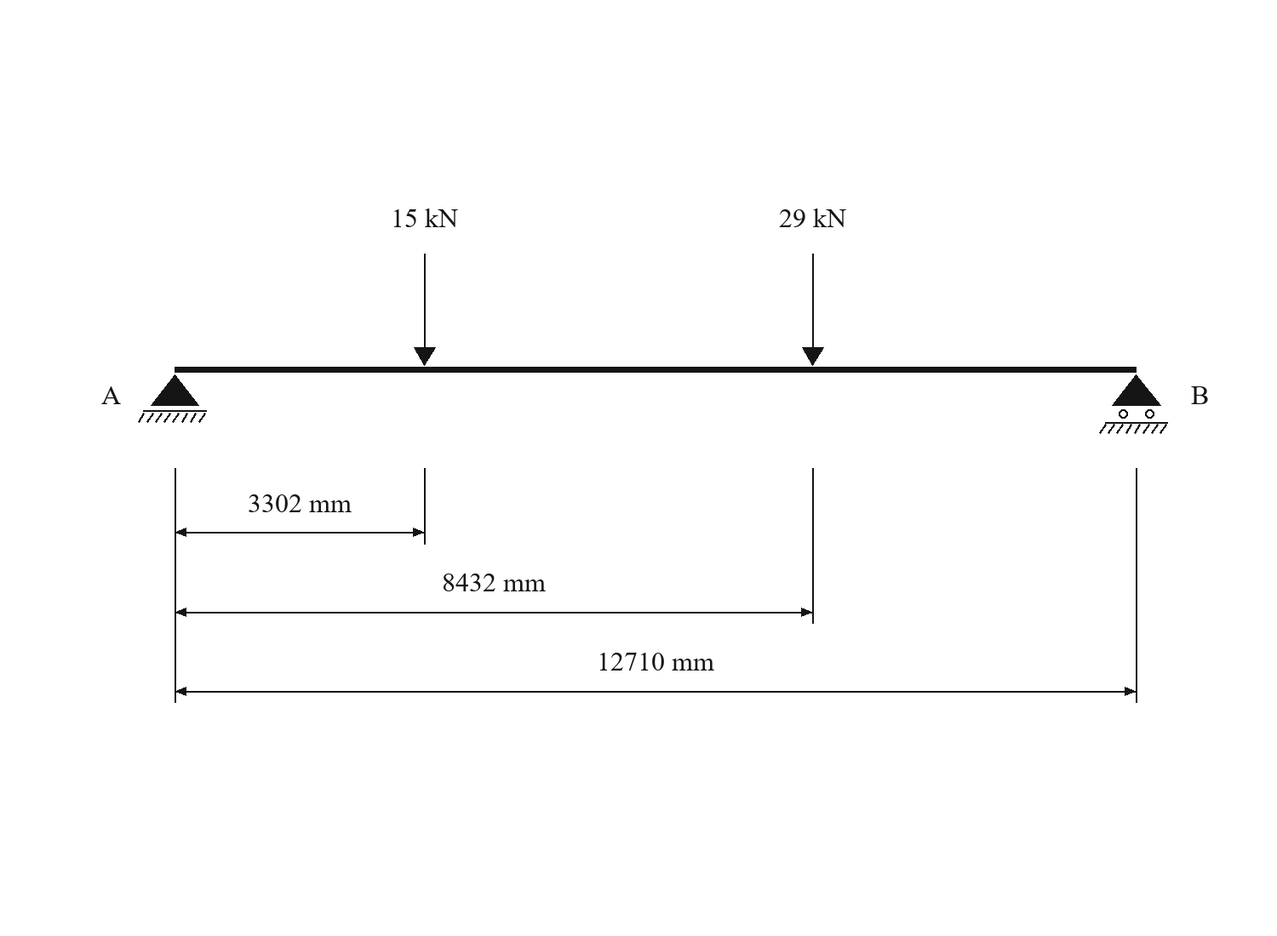pin_support: (138, 374, 207, 423)
point_load: (414, 254, 436, 366), (802, 254, 824, 366)
roller_support: (1099, 374, 1168, 434)
